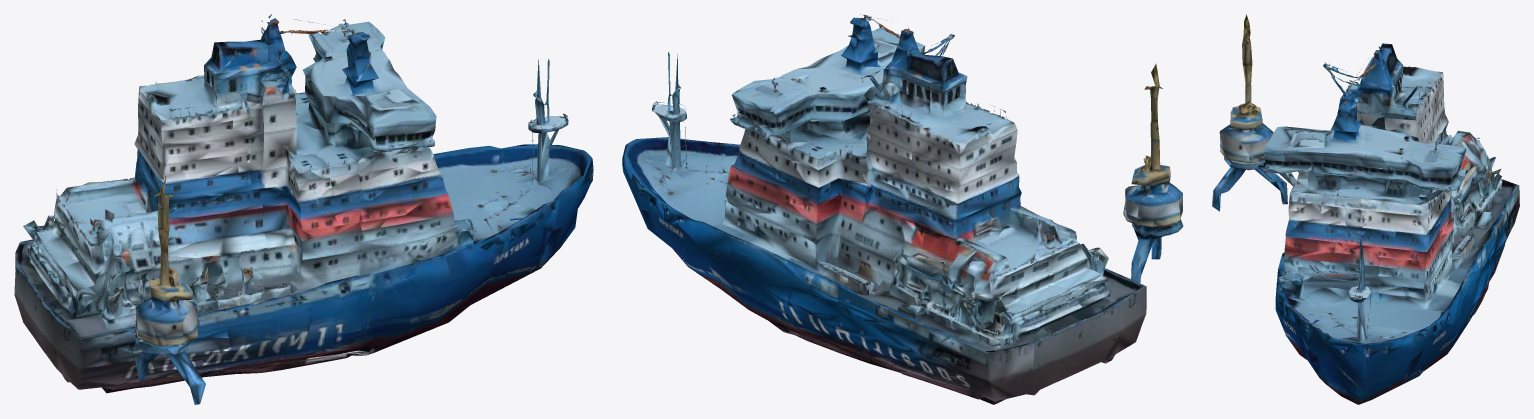
File: transport-08.glb
3 renders of one model, left to right at view 1: azimuth 30°, elevation 25°; view 2: azimuth 150°, elevation 25°; view 3: azimuth 270°, elevation 25°, orthographic. The views are drawn at different scales.
Bounding box in the file's own units: 1.77 × 1.03 × 1.06.
1 material, 1 textured.
